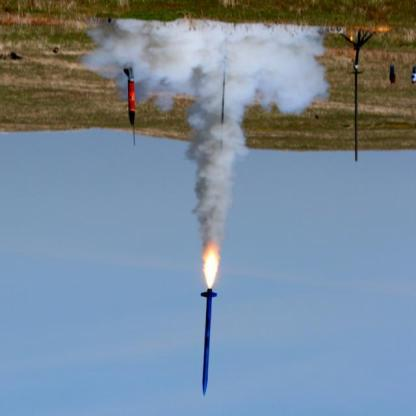MIL_TBM: (198, 286, 218, 400), (122, 64, 138, 130)
